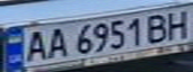1: (124, 16, 148, 47)
5: (109, 18, 130, 51)
6: (72, 21, 96, 55)
9: (90, 20, 112, 54)
A: (18, 28, 51, 63), (42, 25, 69, 60)
B: (142, 11, 172, 43)
H: (163, 8, 193, 41)
